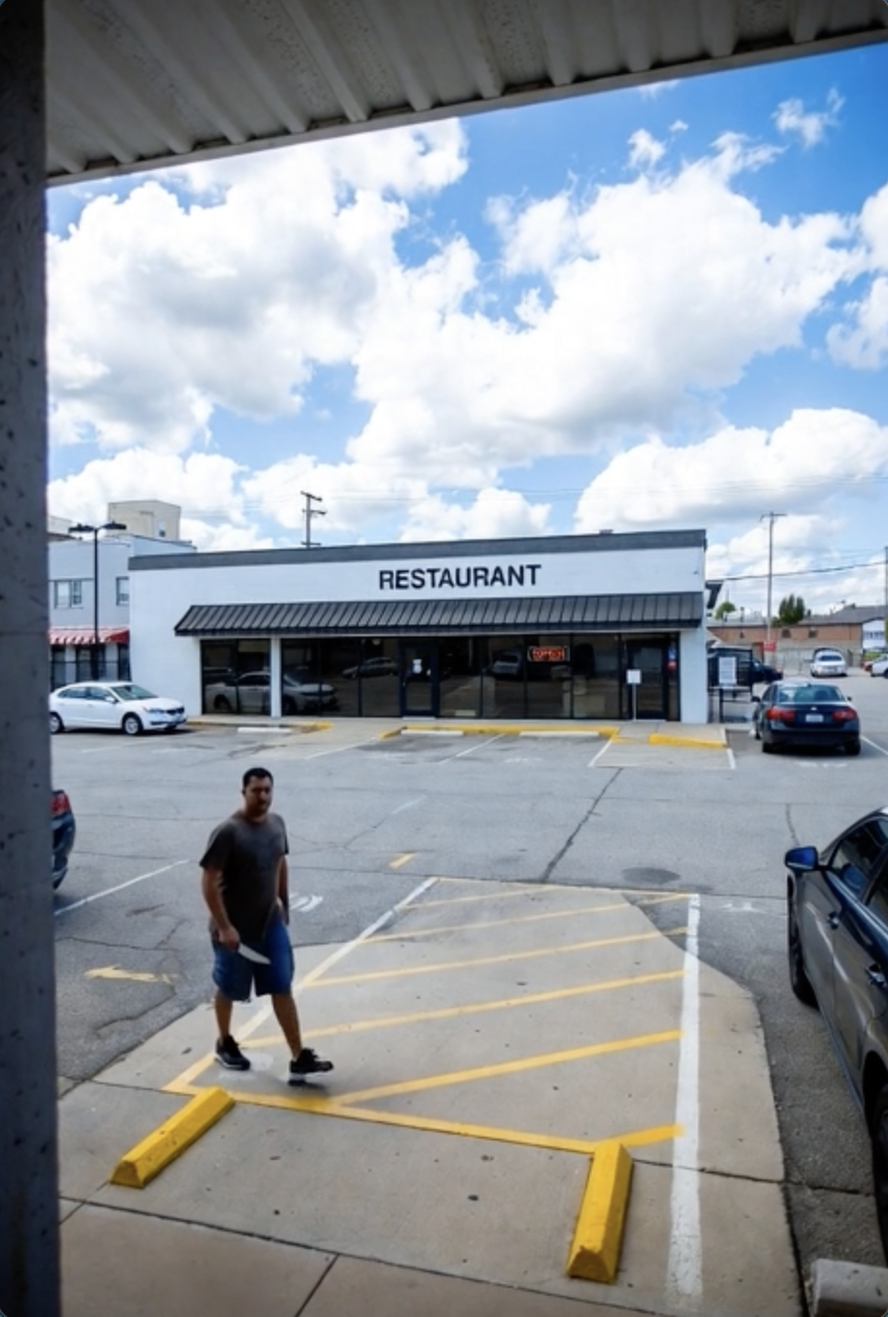Heavy Gun: (194, 765, 351, 1098)
Knife: (213, 917, 277, 967)
